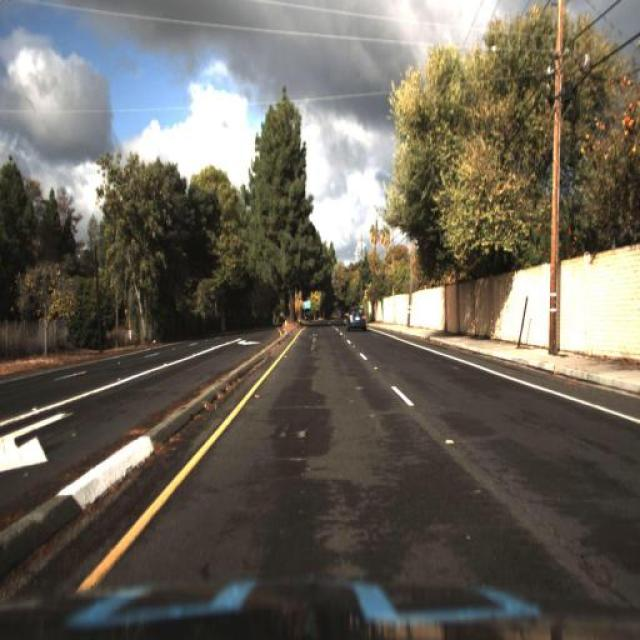car: (346, 308, 369, 334)
